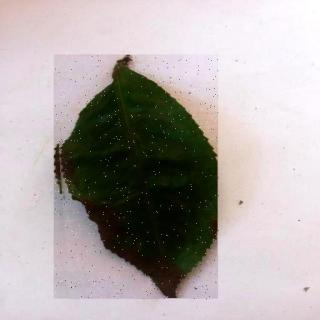Brown Blight: (55, 56, 220, 301)
